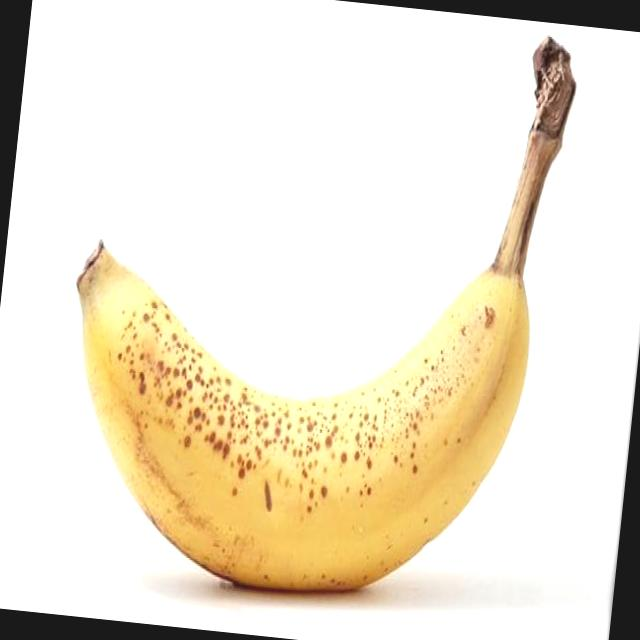banana: (53, 215, 551, 635)
